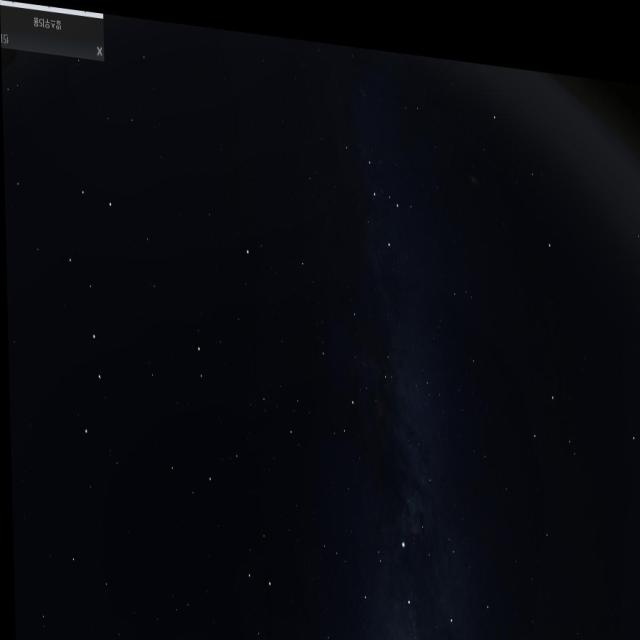cassiopeia: (330, 112, 420, 259)
cygnus: (346, 476, 477, 640)
ursa_major: (58, 172, 131, 448)
